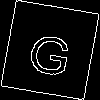G: (25, 24, 76, 78)
